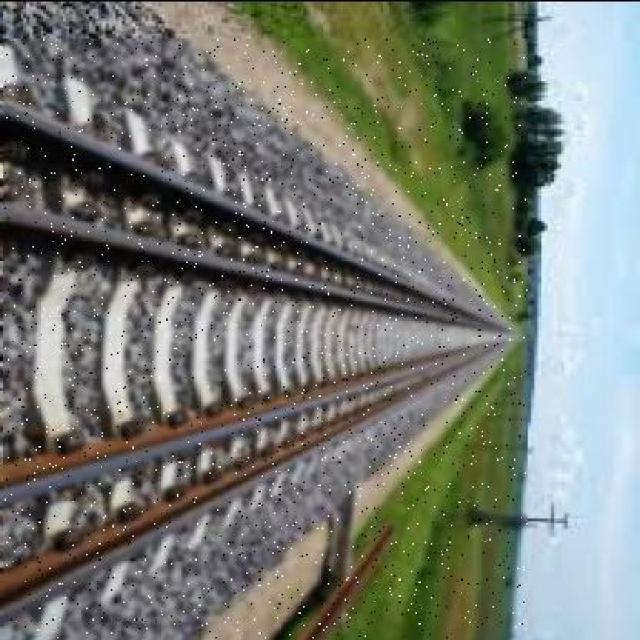rail: (5, 37, 527, 637)
